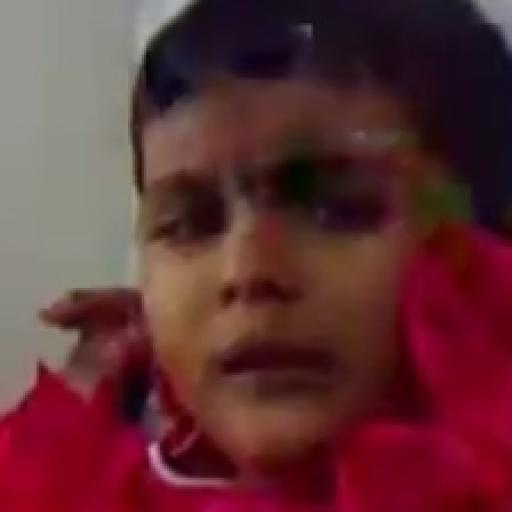Autism: (116, 34, 512, 488)
